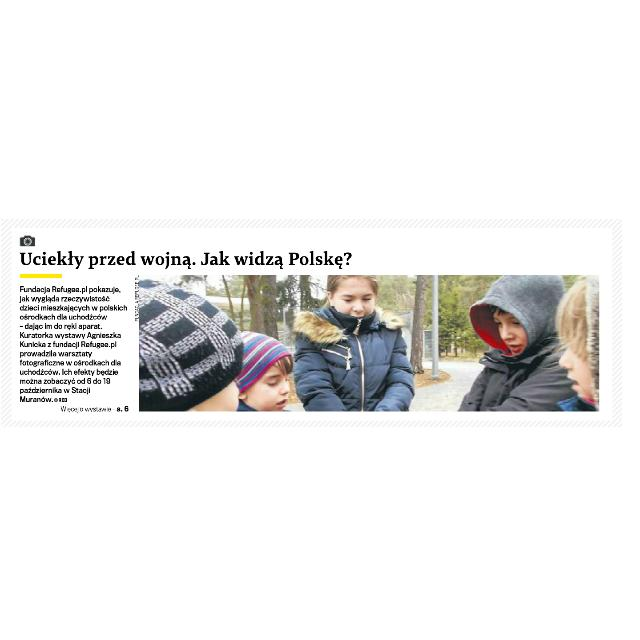body: (18, 282, 128, 406)
image: (136, 274, 602, 416)
title: (17, 247, 367, 271)
